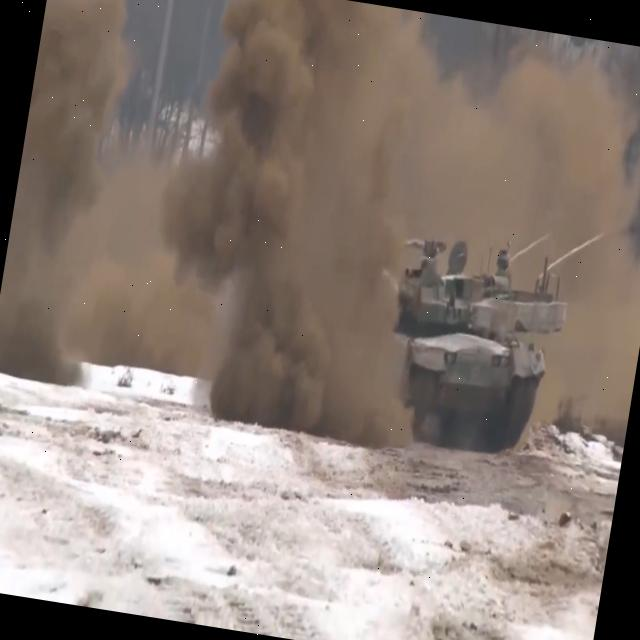korea tank: (263, 206, 575, 464)
